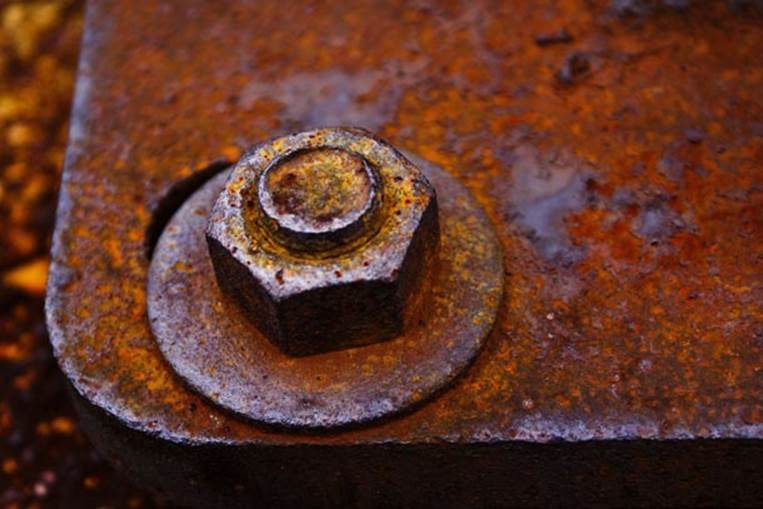bolt_b: (203, 121, 439, 358)
